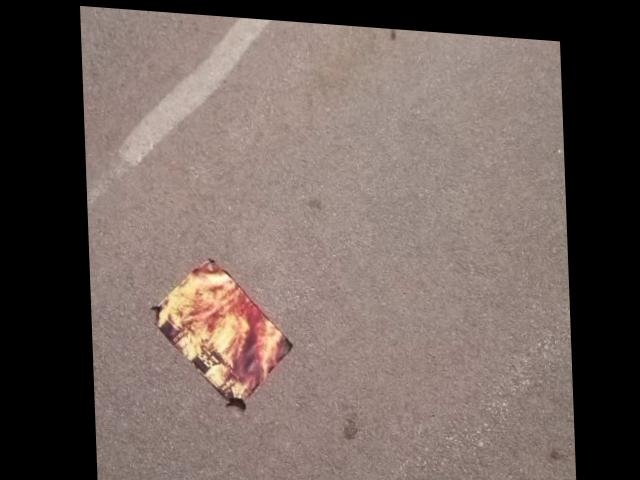fire-poster: (144, 250, 294, 411)
